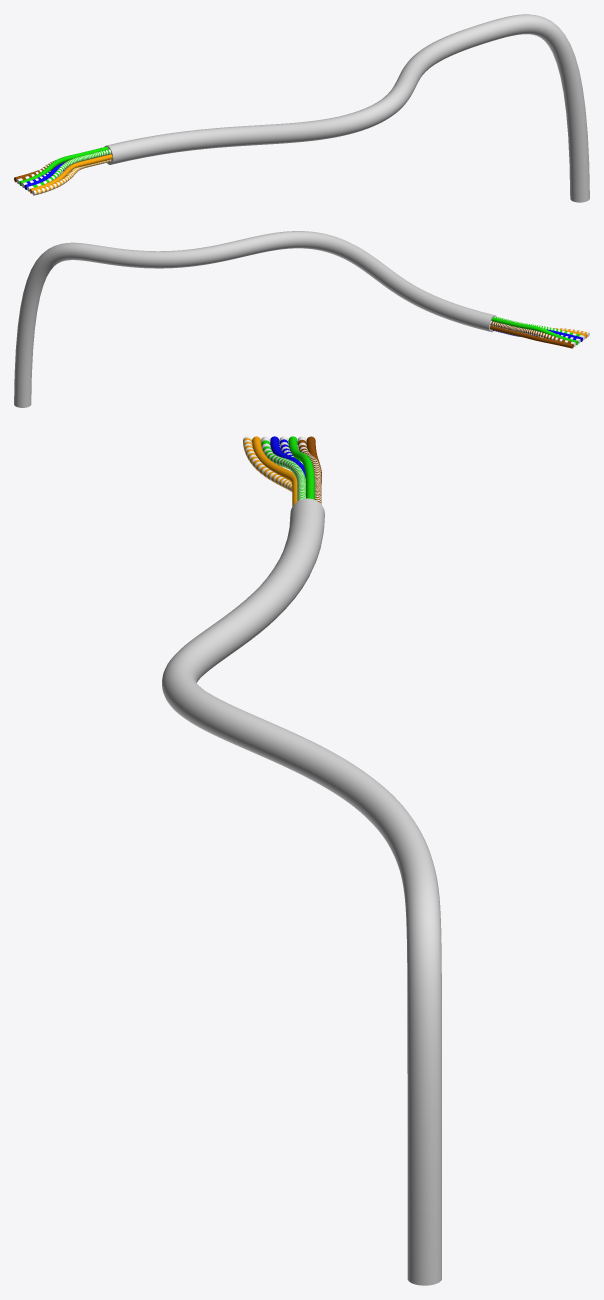
File: wipe 1.fbx
The picture shows the model from 3 angles, top to bottom: view 1: azimuth 30°, elevation 25°; view 2: azimuth 150°, elevation 25°; view 3: azimuth 270°, elevation 25°; orthographic projection. The views are drawn at different scales.
Visible parts, largest first — view 1: NurbsPath, NurbsPath.003, NurbsPath.006, NurbsPath.002, NurbsPath.005; view 2: NurbsPath, NurbsPath.008, NurbsPath.001, NurbsPath.002; view 3: NurbsPath.
Part boxes in pixels (bbox=[...]): NurbsPath: bbox=[104, 14, 589, 202]; NurbsPath.003: bbox=[27, 149, 111, 191]; NurbsPath.006: bbox=[29, 154, 112, 193]; NurbsPath.002: bbox=[19, 146, 108, 185]; NurbsPath.005: bbox=[32, 159, 111, 195]; NurbsPath: bbox=[14, 231, 496, 407]; NurbsPath.008: bbox=[490, 325, 573, 348]; NurbsPath.001: bbox=[490, 321, 575, 346]; NurbsPath.002: bbox=[491, 317, 578, 345]; NurbsPath: bbox=[162, 498, 441, 1285].
Size of the model in its own units: 352 by 118 by 80.69.
